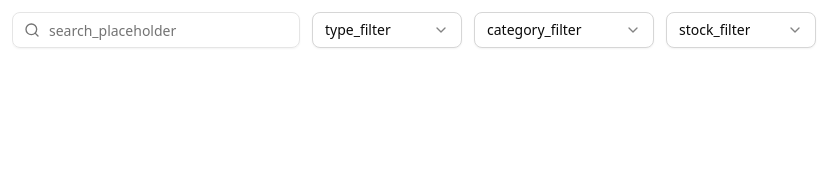
Test: CatalogFilterBar › Dynamic filtering based on other selections › should show only categories that have items
Click the dropdown "category_filter": (564, 30) [474, 12, 654, 48]
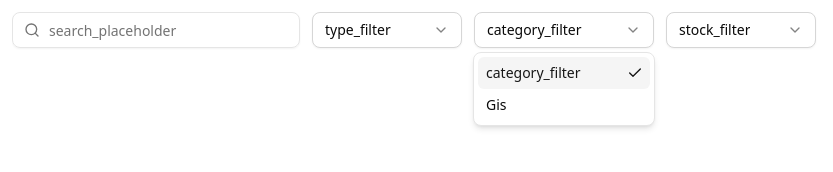
Expected: the option "Gis" is shown, [486, 95, 506, 114]
